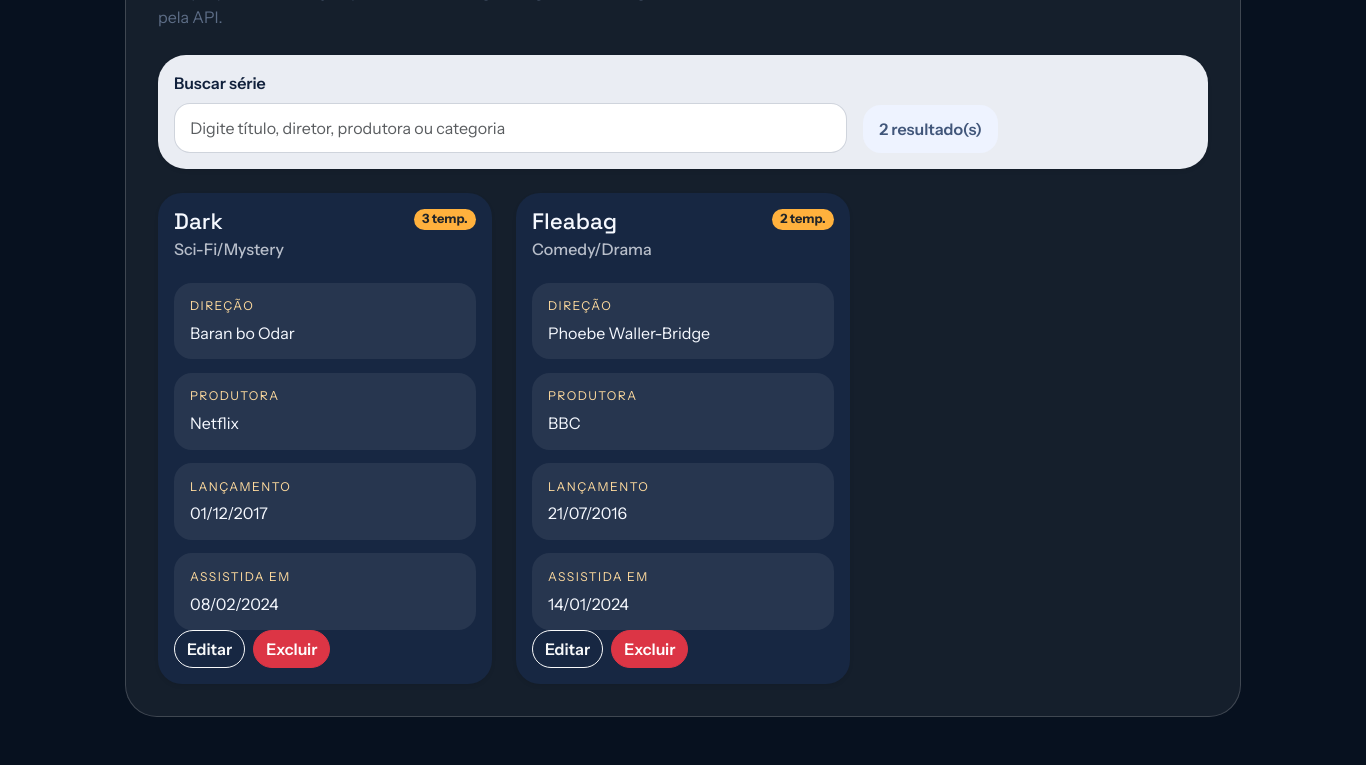
Test case: Serie Journal happy paths › exclui uma série do catálogo
(page scrolled)
Click the button "Excluir" below "14/01/2024" at (650, 649), box [611,630,688,668]
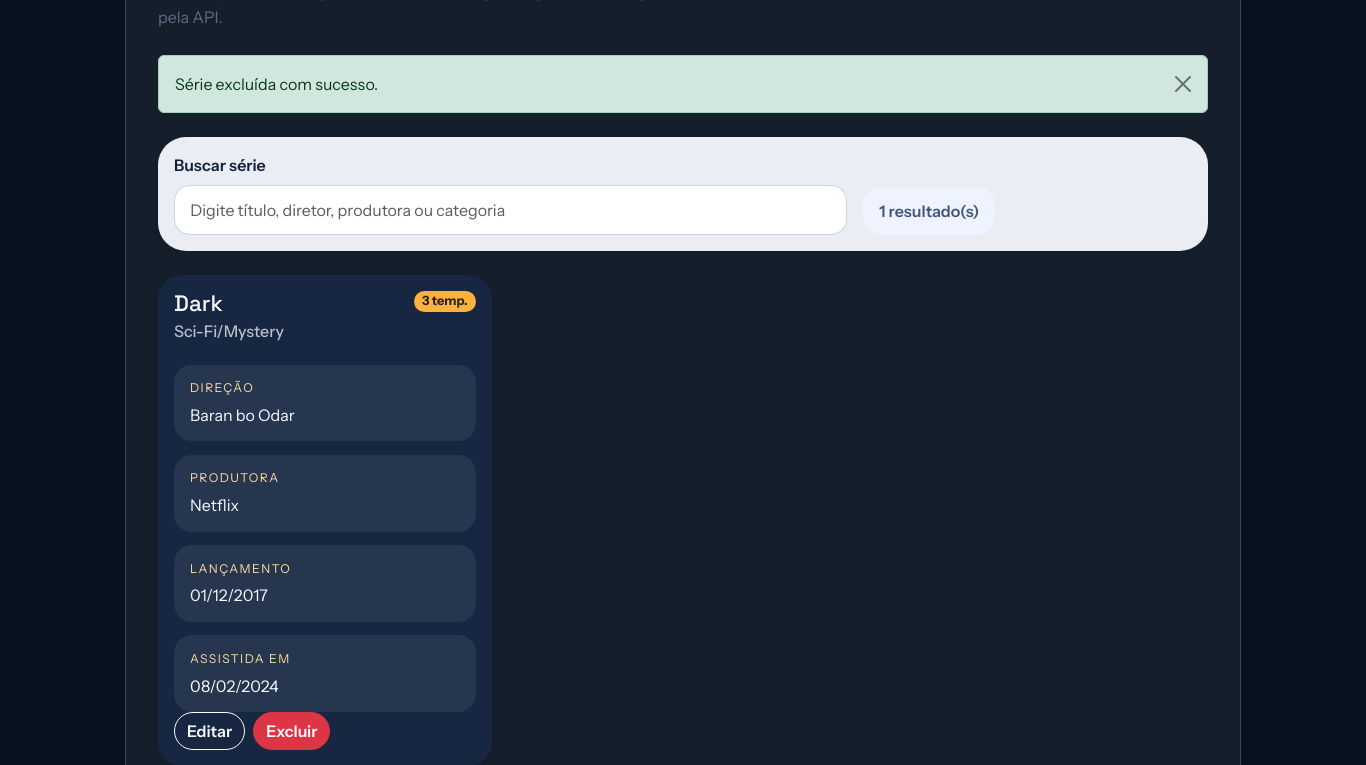
Expected: the text "Dark" is shown, [174,289,223,318]
Expected: the text "Série excluída com sucesso." is shown, [158,55,1208,113]
Expected: the heading "Fleabag" is gone
